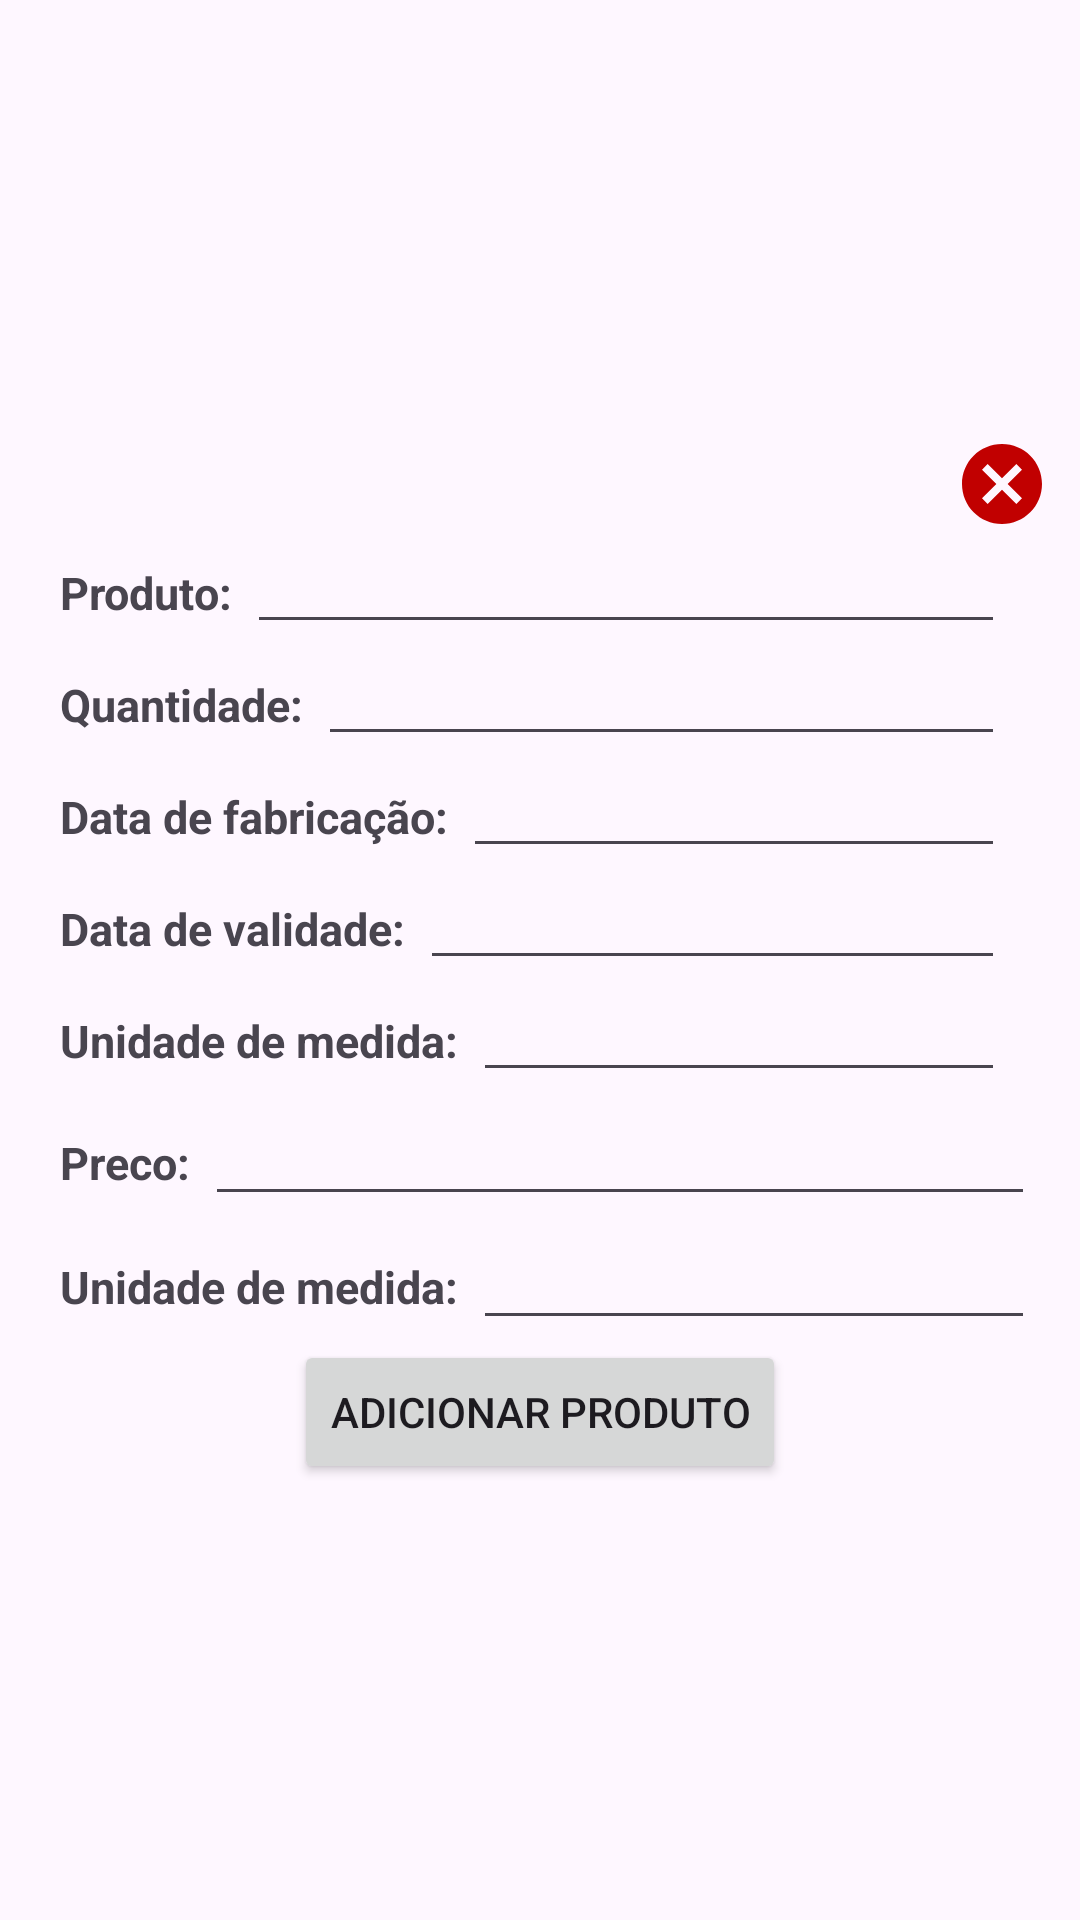

Screen size 1080w x 1920h. Icon name, then its box in pixels as (x1, y1, x2, y2):
close: (962, 444, 1042, 524)
